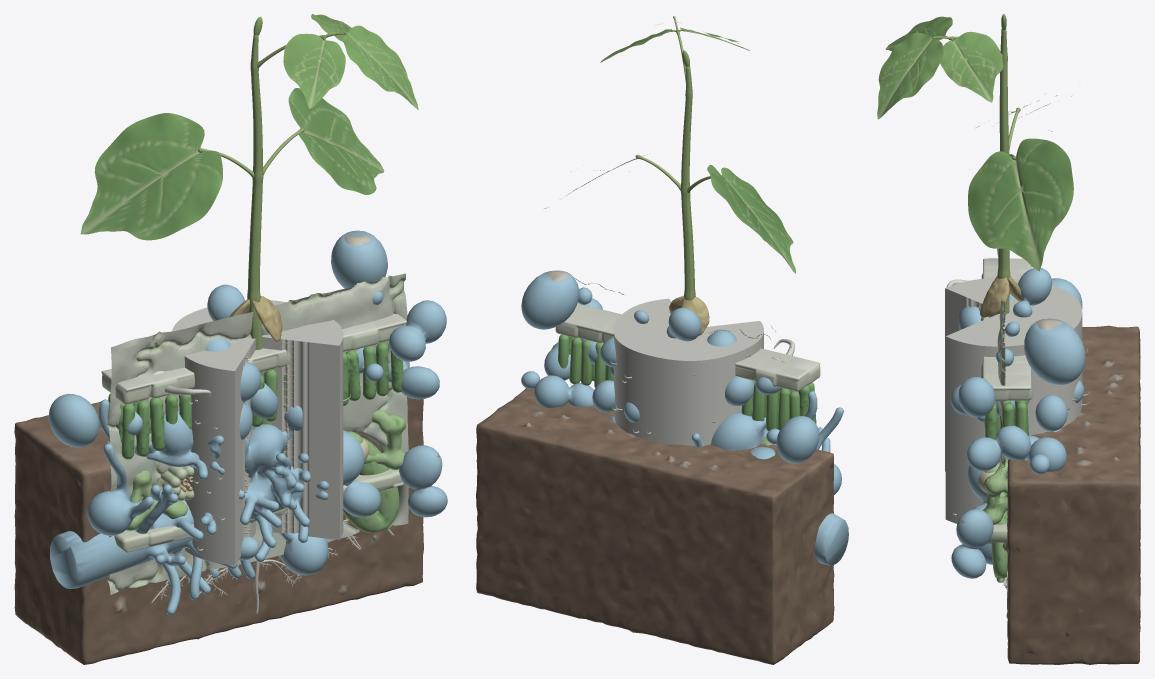
The model's file is transpiration.glb.
3 renders of one model, left to right at view 1: azimuth 30°, elevation 25°; view 2: azimuth 150°, elevation 25°; view 3: azimuth 270°, elevation 25°, orthographic. The views are drawn at different scales.
Visible parts, largest first — view 1: rootWater, soil, plant, stem, stomaSurface, leafSection, stomaGuard, roots; view 2: soil, rootWater, stem, leafSection, plant; view 3: soil, plant, rootWater, stem, leafSection, stomaSurface, stomaGuard.
Boxes of the visible parts, <box> form: rootWater: <box>48,230,447,615</box>; soil: <box>14,397,423,664</box>; plant: <box>80,14,418,376</box>; stem: <box>172,300,343,565</box>; stomaSurface: <box>107,273,408,594</box>; leafSection: <box>101,313,406,552</box>; stomaGuard: <box>253,419,399,532</box>; roots: <box>151,517,393,614</box>; soil: <box>476,388,834,664</box>; rootWater: <box>521,270,848,565</box>; stem: <box>614,298,763,445</box>; leafSection: <box>555,303,820,445</box>; plant: <box>544,16,795,335</box>; soil: <box>1002,325,1140,664</box>; plant: <box>877,14,1073,317</box>; rootWater: <box>950,268,1085,578</box>; stem: <box>945,278,1082,523</box>; leafSection: <box>981,258,1032,542</box>; stomaSurface: <box>946,249,1005,524</box>; stomaGuard: <box>991,478,1007,582</box>.
Bounding box in the file's own units: 4.78 × 7.86 × 3.26.
